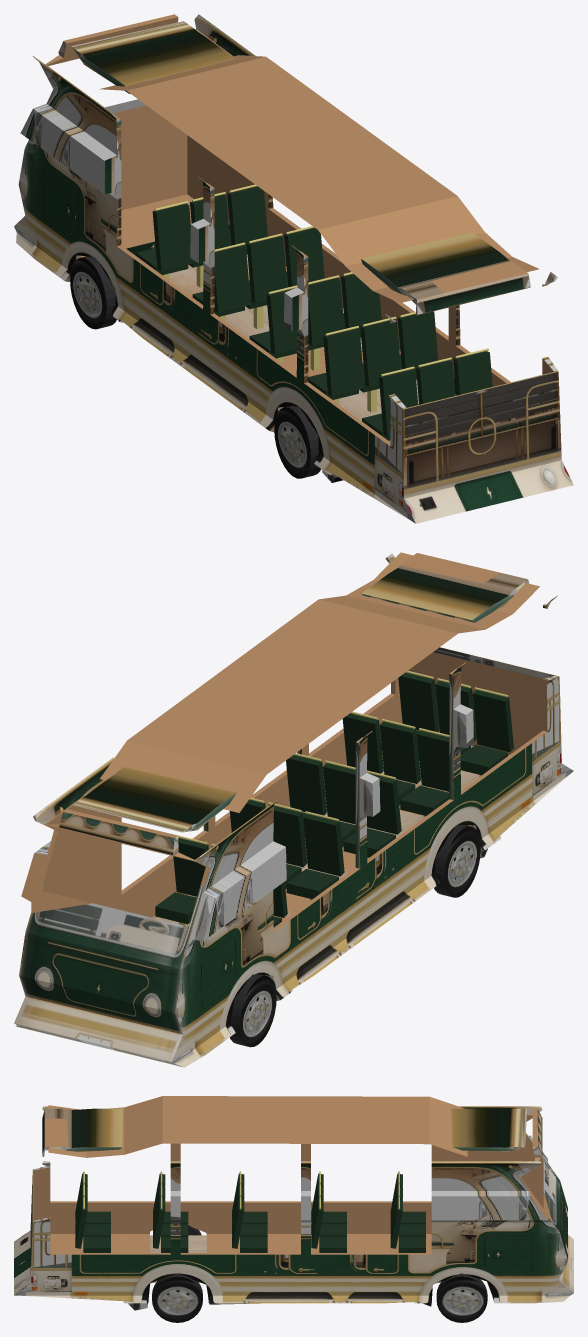
File: sightseeing_trolley.glb
3 views of the same model, one above another, from view 1: azimuth 30°, elevation 25°; view 2: azimuth 150°, elevation 25°; view 3: azimuth 270°, elevation 25° (orthographic). The views are drawn at different scales.
Parts seen in each view (by area): view 1: sightseeing_trolley, sightseeing_trolley_interior, wheel_FL, wheel_BL; view 2: sightseeing_trolley, sightseeing_trolley_interior, wheel_BL, wheel_FL; view 3: sightseeing_trolley, sightseeing_trolley_interior, wheel_FR, wheel_BR.
Boxes of the visible parts, x1,y1,x2,y2 form: sightseeing_trolley: (14, 14, 573, 523); sightseeing_trolley_interior: (99, 55, 539, 441); wheel_FL: (70, 256, 116, 329); wheel_BL: (274, 406, 320, 478); sightseeing_trolley: (14, 553, 573, 1067); sightseeing_trolley_interior: (100, 552, 539, 927); wheel_BL: (434, 824, 480, 897); wheel_FL: (230, 974, 276, 1047); sightseeing_trolley: (14, 1106, 573, 1310); sightseeing_trolley_interior: (48, 1096, 467, 1282); wheel_FR: (436, 1273, 487, 1322); wheel_BR: (152, 1273, 202, 1322).
Bounding box in the file's own units: 2.35 × 3.08 × 8.97.
Materials: 7 (2 with a texture image).
